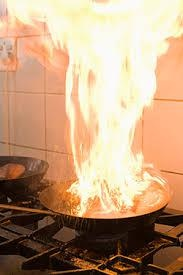fire: (59, 5, 169, 225)
